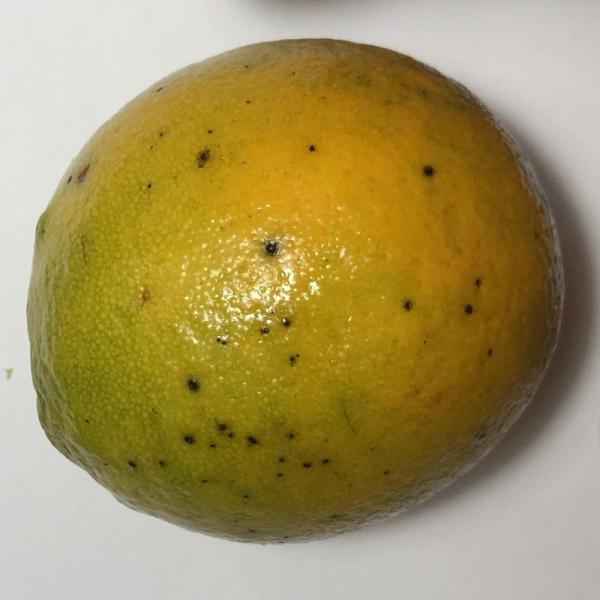Machas negras: (19, 32, 576, 555)
